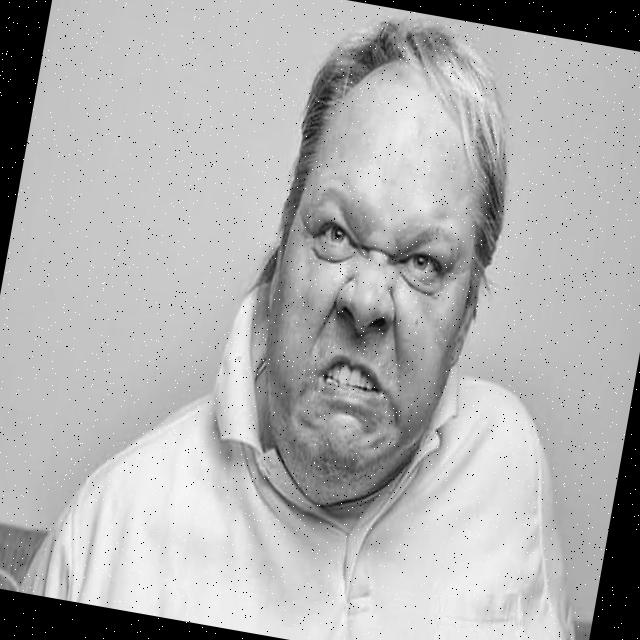Angry: (248, 80, 500, 487)
